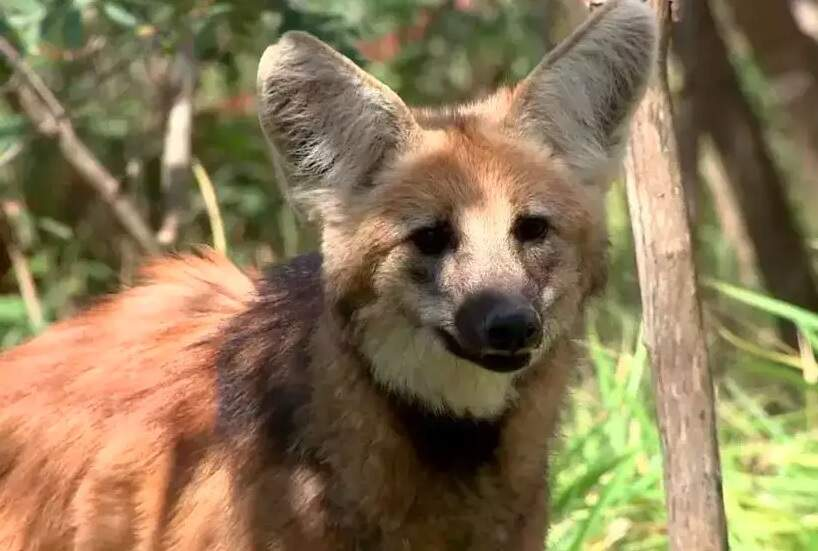LoboGuara: (31, 14, 664, 539)
